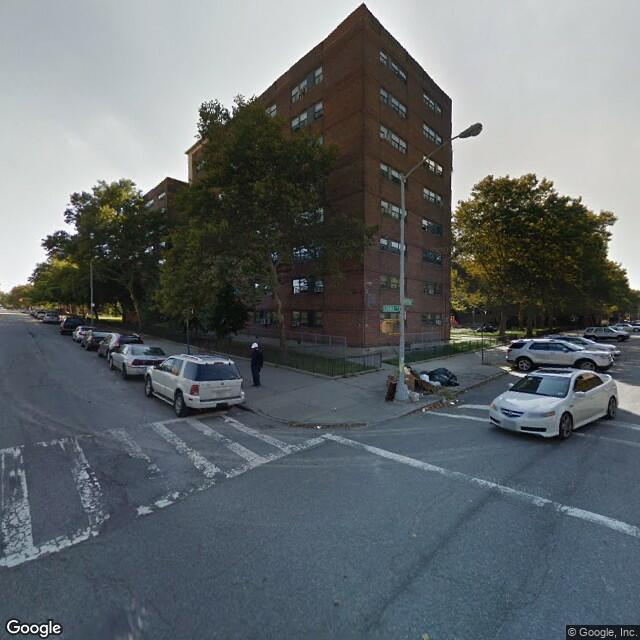litter: (450, 400, 456, 404), (422, 409, 427, 413), (332, 408, 338, 411), (316, 425, 318, 429)
